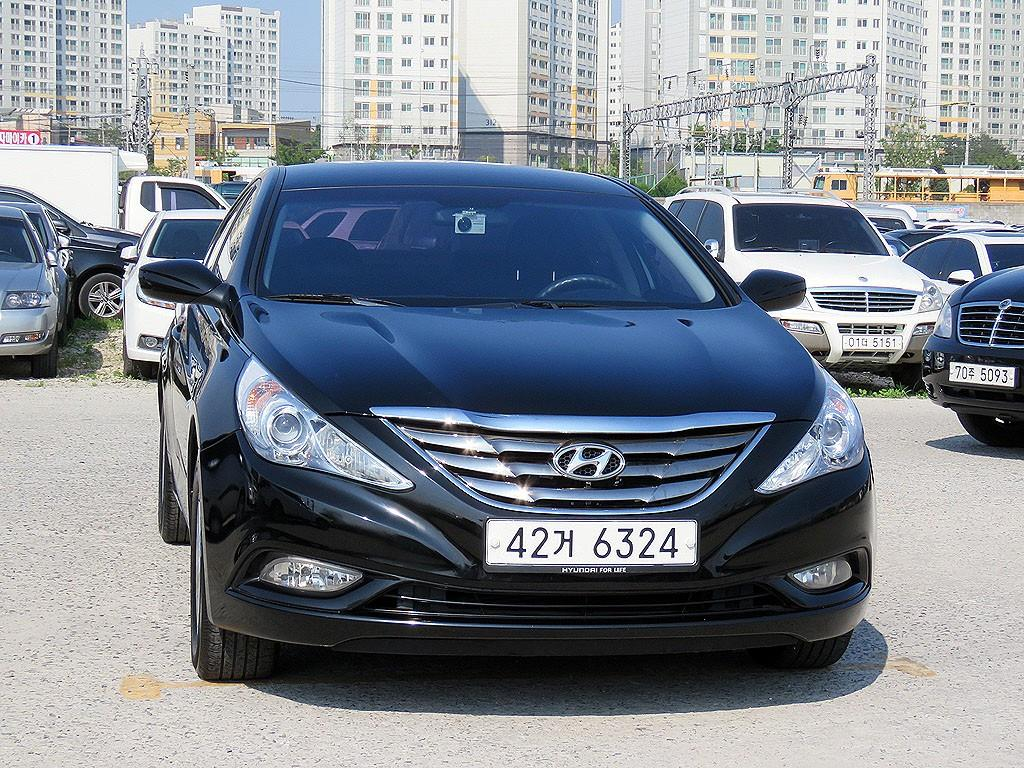plate: (488, 520, 696, 565)
